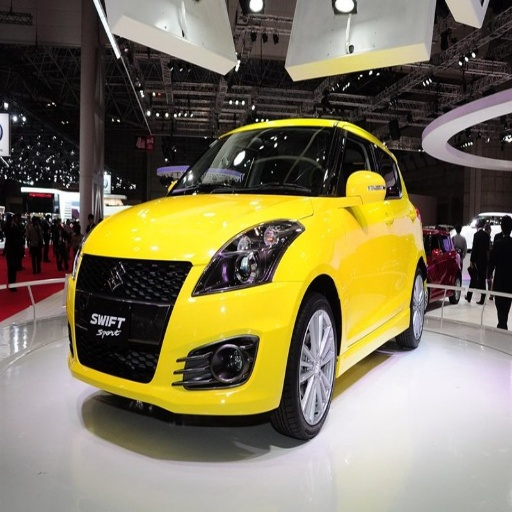front_bumper: (69, 245, 305, 414)
front_glass: (172, 127, 333, 194)
front_left_door: (337, 141, 394, 340)
